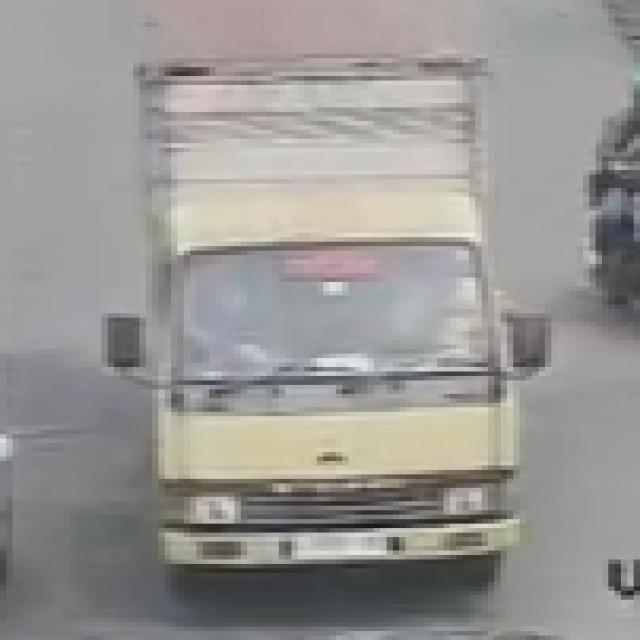truck: (98, 0, 581, 610)
